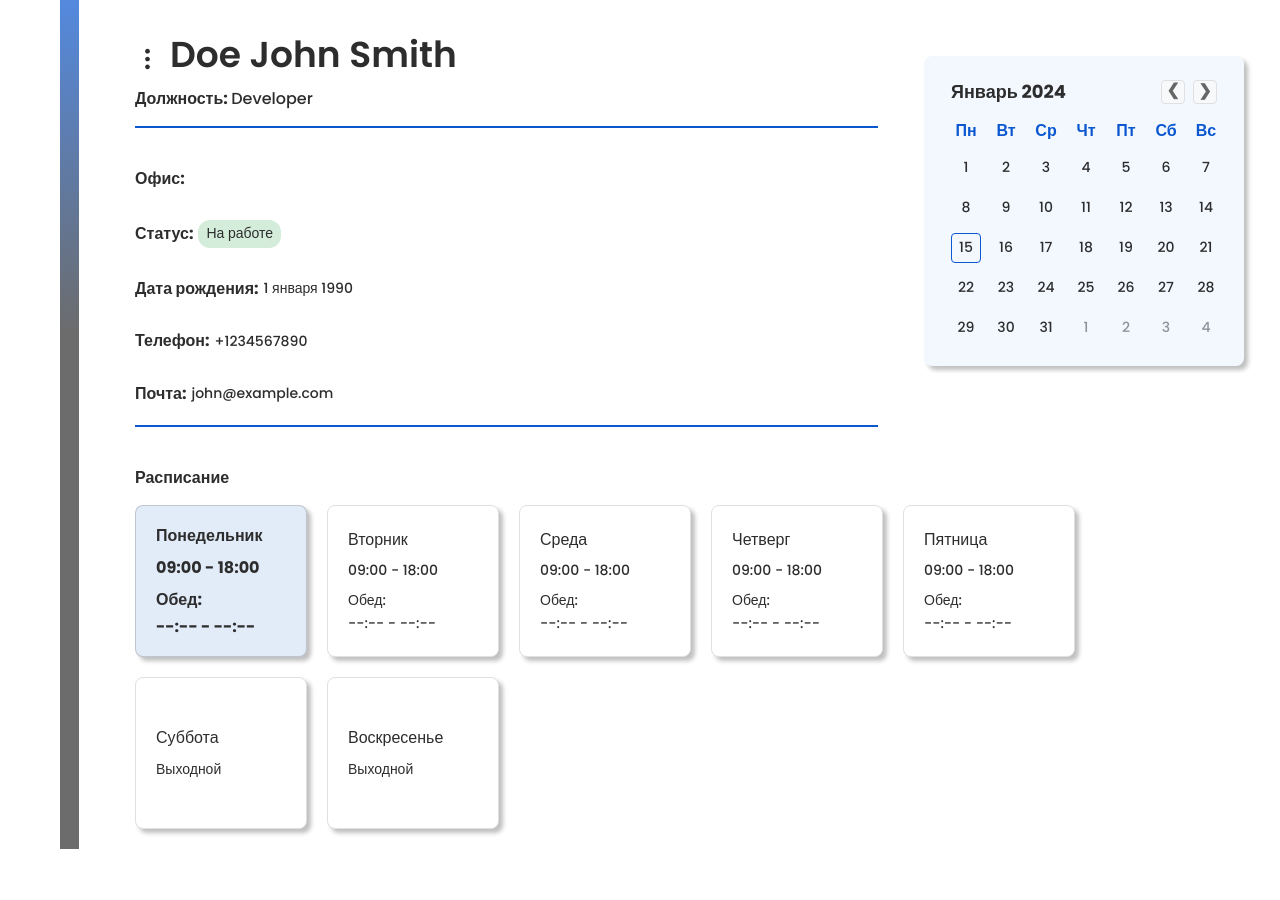
Scenario: EmployeeInfo Component › open popup for edit employee
The width and height of the screenshot is (1280, 900).
Click the 1st button. click: (148, 59)
box: [135,47,160,72]
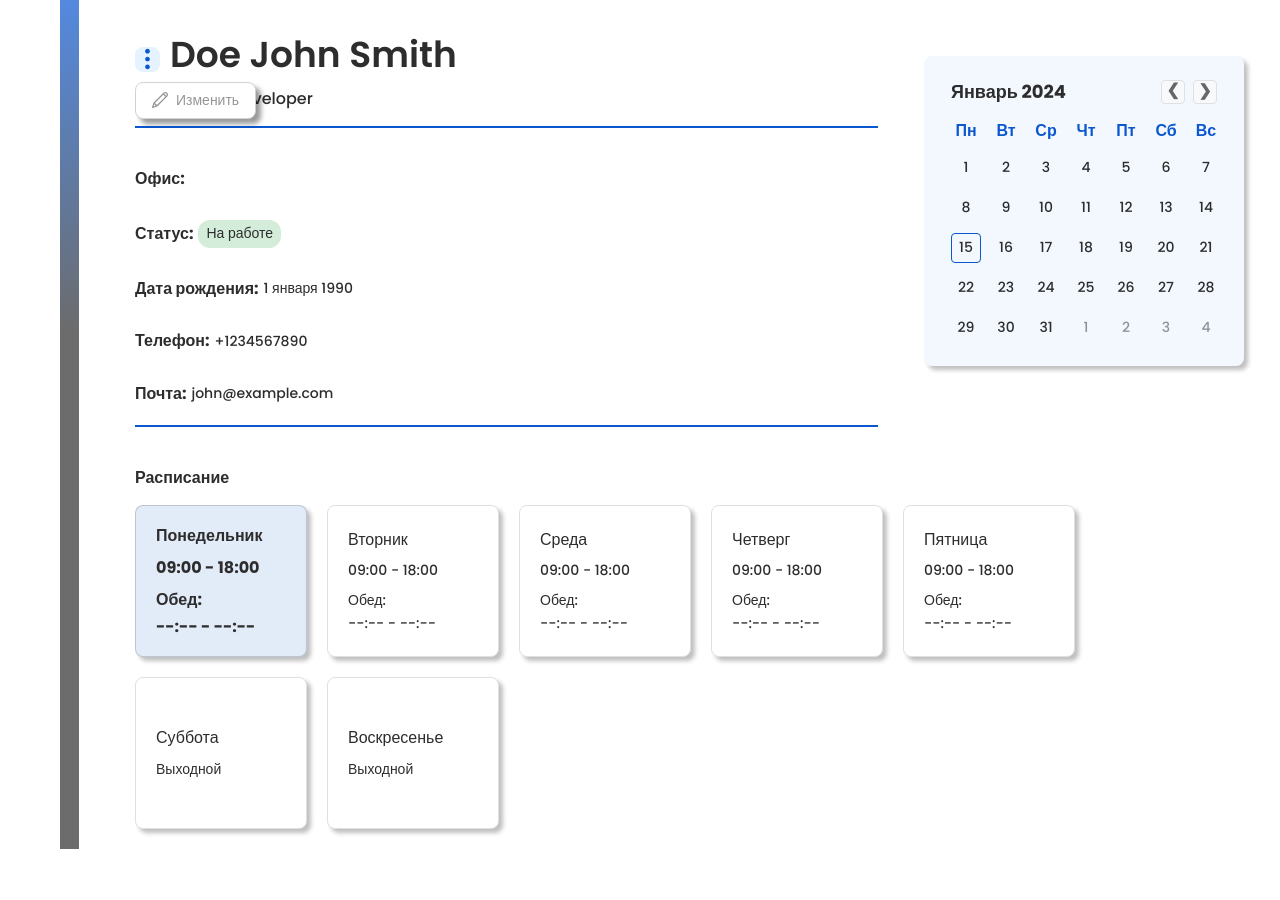
Expected: the text "Изменить" is shown, [152,90,239,110]
